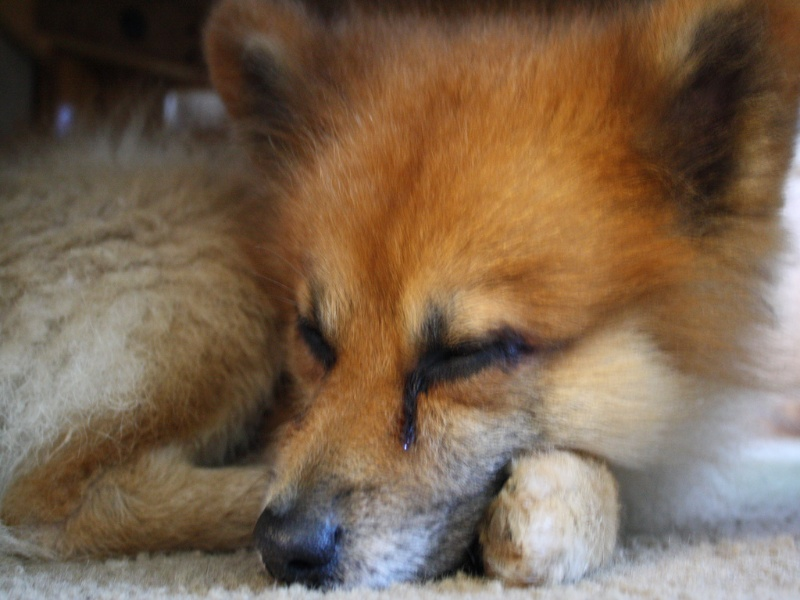fox: (7, 8, 781, 587)
